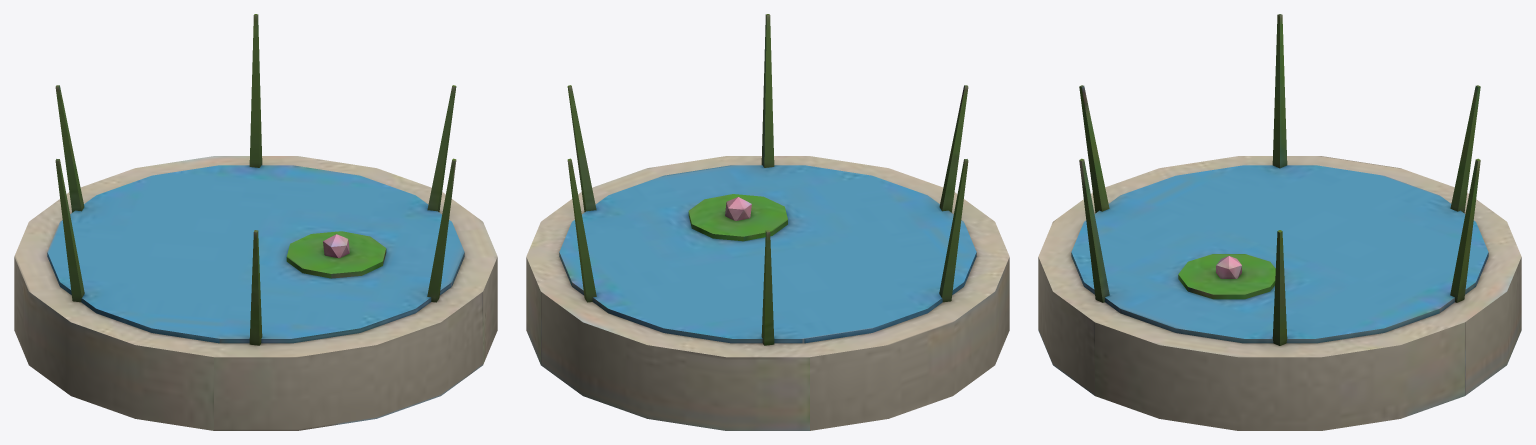
File: estanque.glb
3 views of the same model, side by side, from view 1: azimuth 30°, elevation 25°; view 2: azimuth 150°, elevation 25°; view 3: azimuth 270°, elevation 25° (orthographic).
Parts seen in each view (by area): view 1: estanque; view 2: estanque; view 3: estanque.
Boxes of the visible parts, x1=… form: estanque: x1=14, y1=14, x2=497, y2=430; estanque: x1=526, y1=14, x2=1009, y2=430; estanque: x1=1038, y1=14, x2=1521, y2=430.
Bounding box in the file's own units: 1.87 × 0.9515 × 1.9.
1 material, 1 textured.
